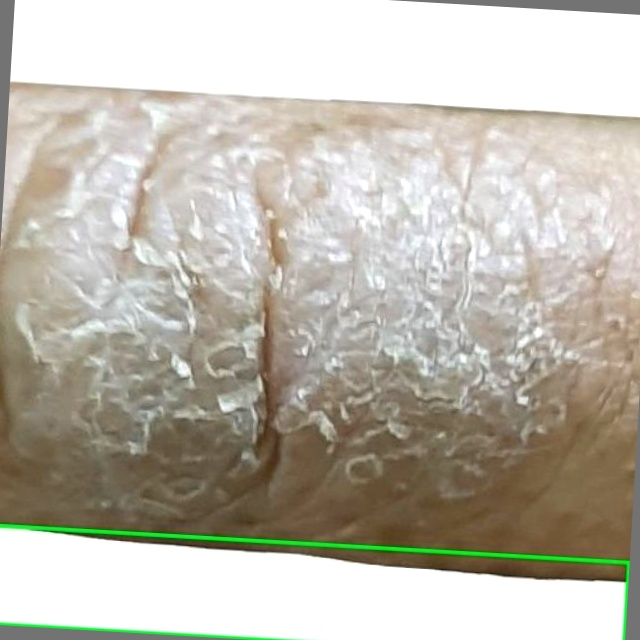Eczema: (0, 525, 628, 639)
